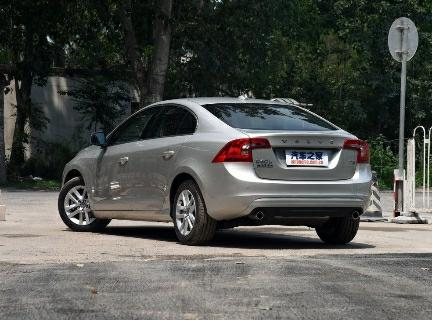car: (47, 93, 377, 262)
